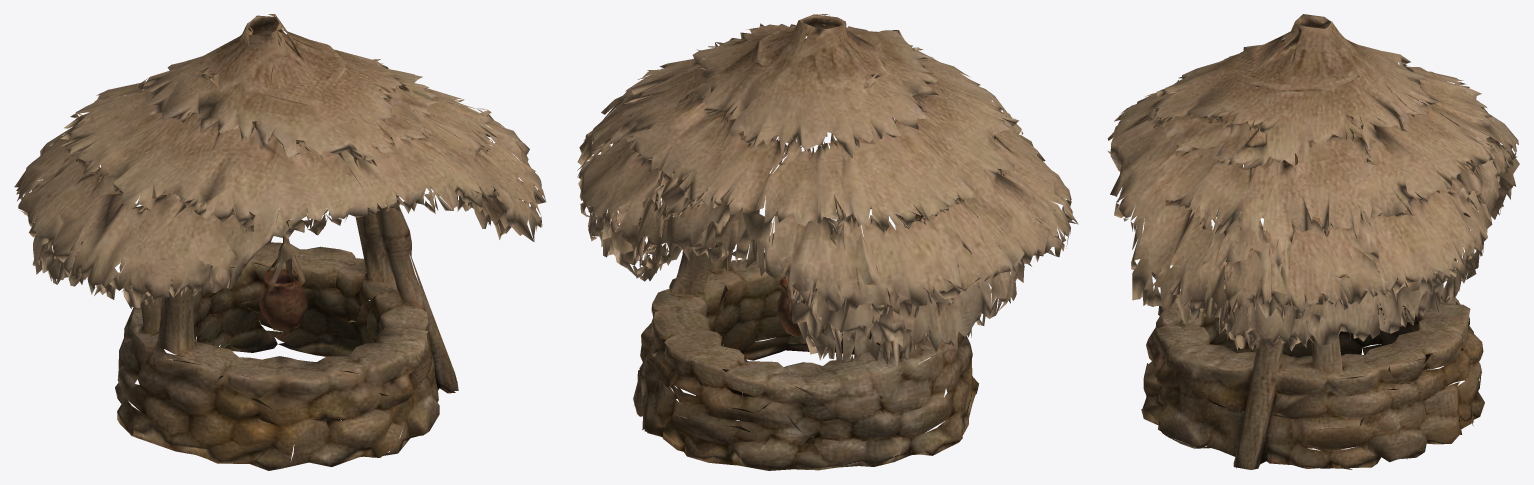
Rendered from well_mid.glb.
3 views of the same model, side by side, from view 1: azimuth 30°, elevation 25°; view 2: azimuth 150°, elevation 25°; view 3: azimuth 270°, elevation 25° (orthographic). The views are drawn at different scales.
Parts seen in each view (by area): view 1: model; view 2: model; view 3: model.
Boxes of the visible parts, x1,y1,x2,y2 form: model: (14,14,546,470); model: (577,14,1078,470); model: (1107,14,1519,469).
Bounding box in the file's own units: 0.9928 × 0.7891 × 0.784.
1 material, 1 textured.
